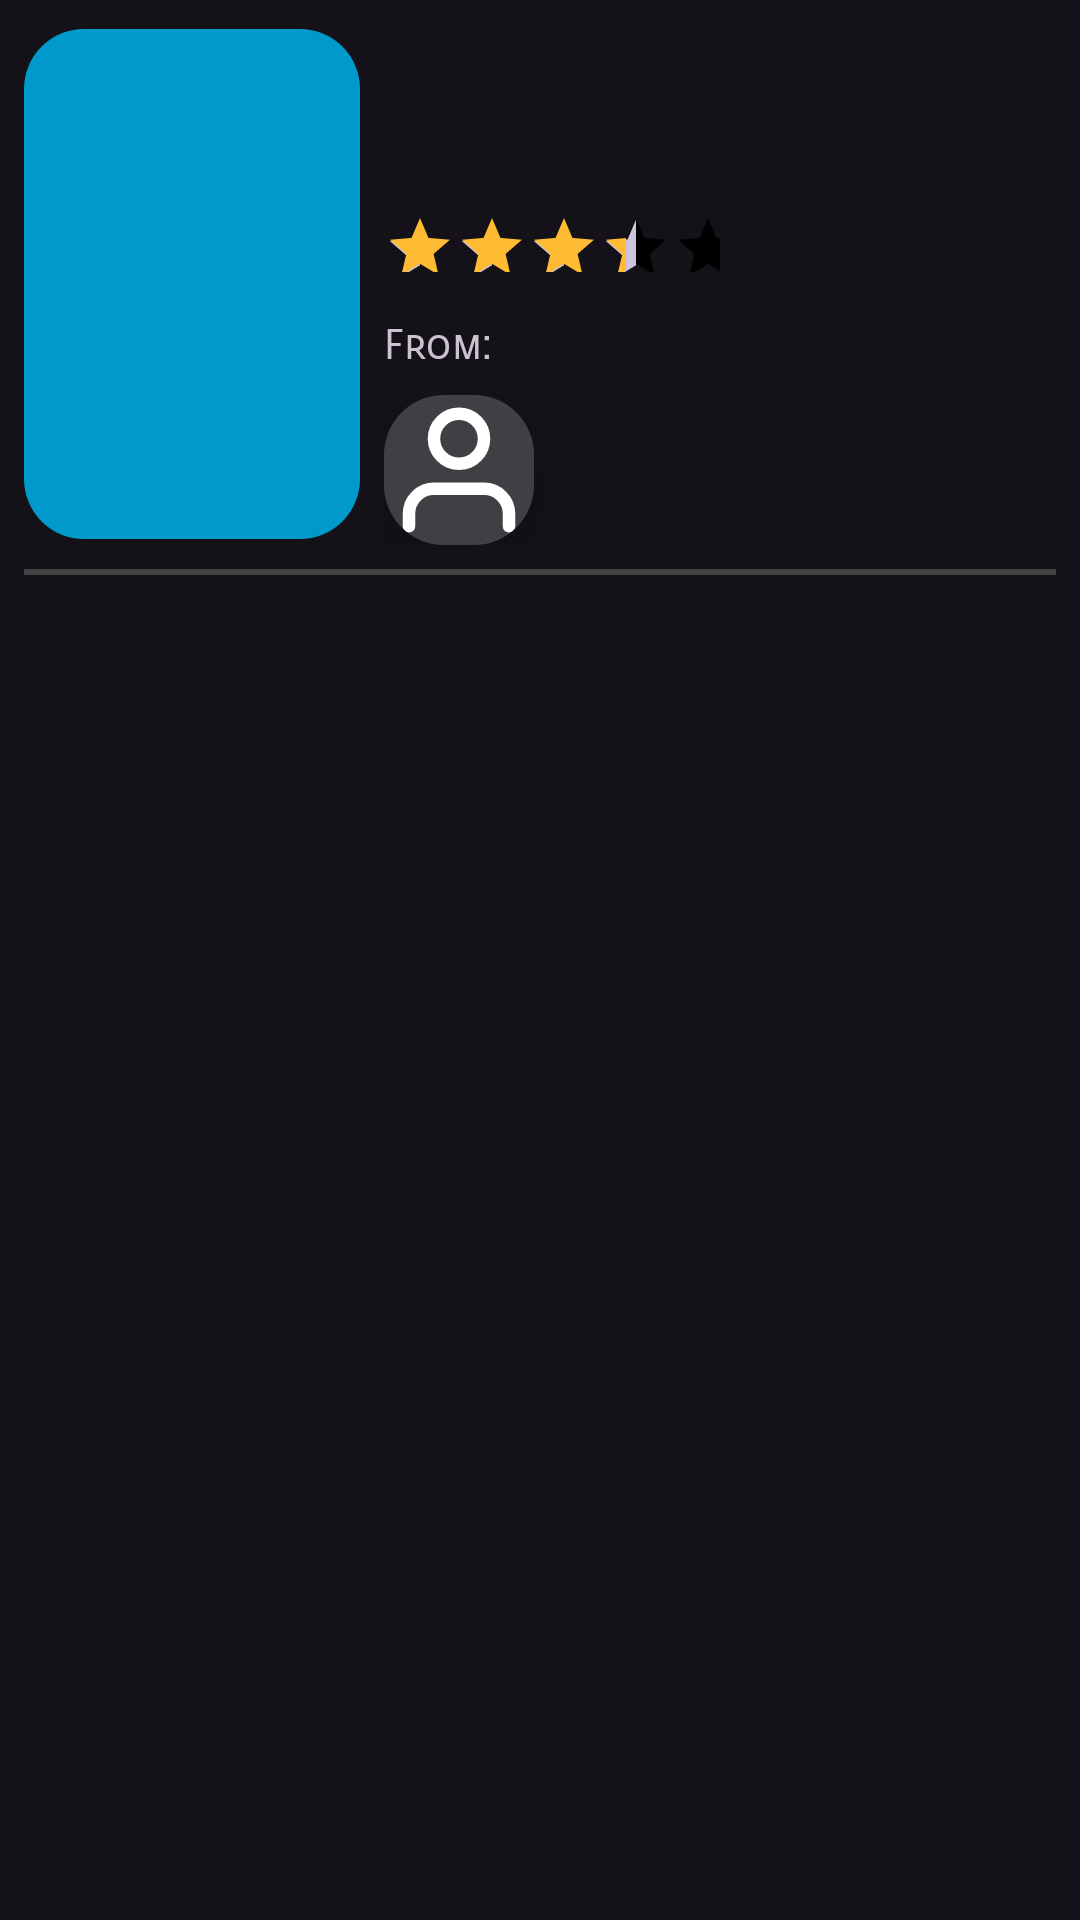

Named icons in this screenshot (1080 x 1920) and their centers, [x,y]:
user: [459,470]
